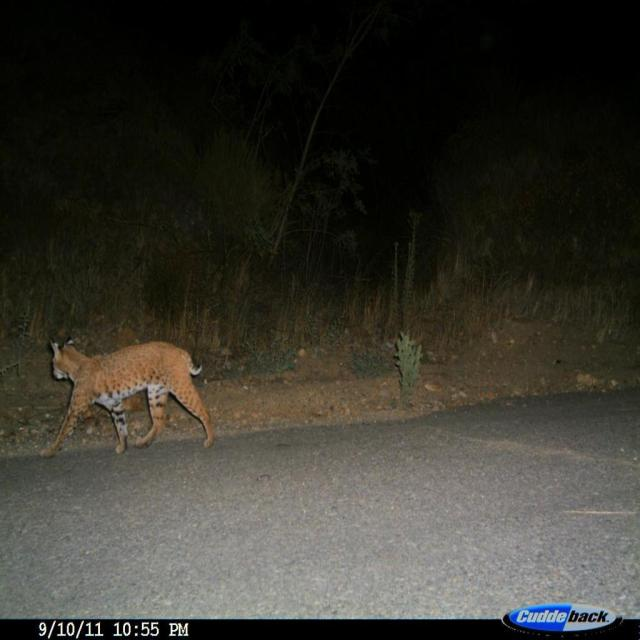bobcat: (41, 330, 220, 464)
